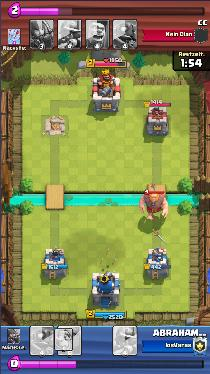enemy_giant: (138, 191, 169, 220)
